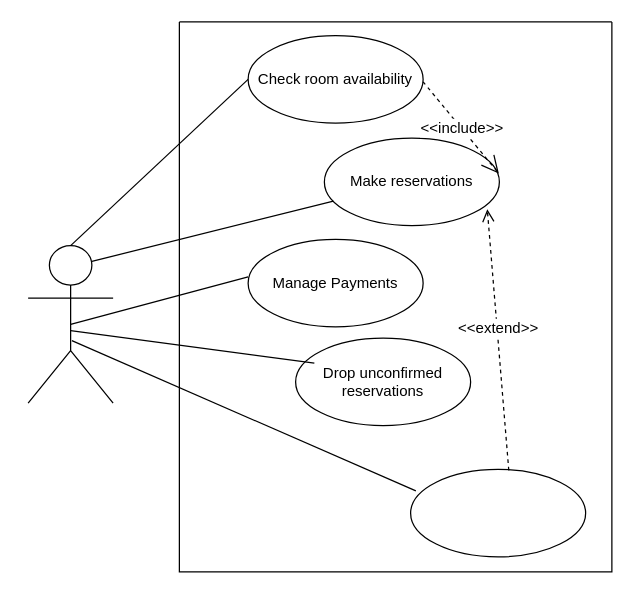
Image size: 634x594. Some labels were removed from this diagram. Each missing label, with the centre of its shape:
John and Jane: pixel 70 323
Update reservation details: pixel 497 512
